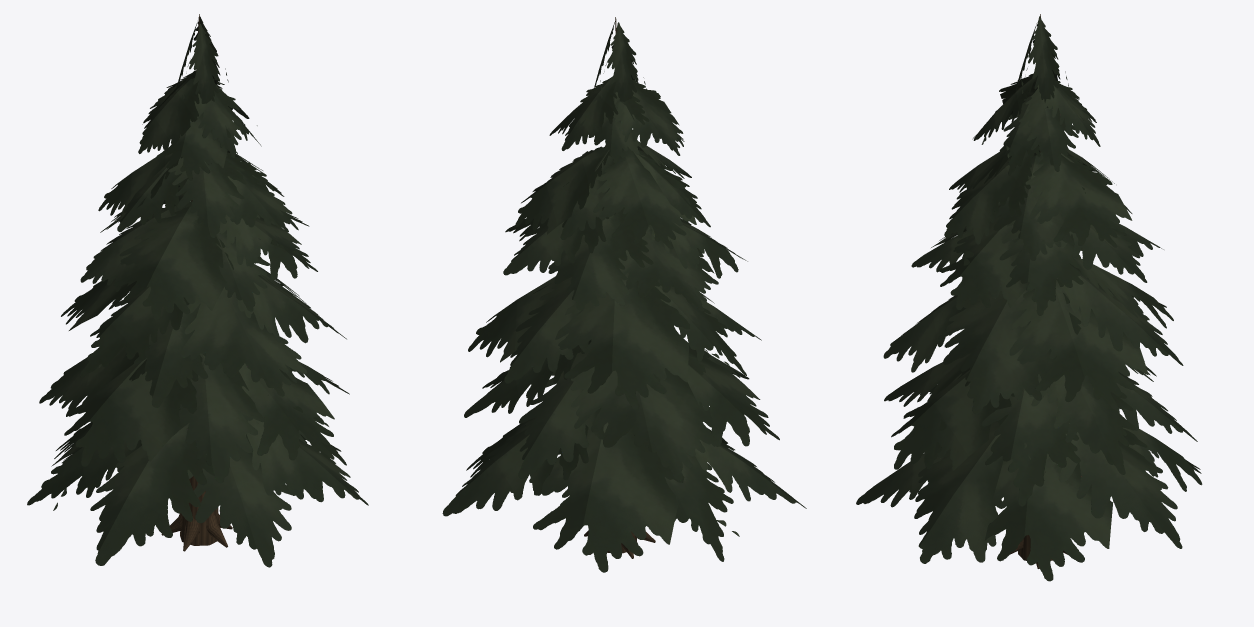
3 renders of one model, left to right at view 1: azimuth 30°, elevation 25°; view 2: azimuth 150°, elevation 25°; view 3: azimuth 270°, elevation 25°, orthographic. The views are drawn at different scales.
Visible parts, largest first — view 1: Tapered harvest trunk; view 2: Tapered harvest trunk; view 3: Tapered harvest trunk.
Boxes of the visible parts, <box> form: Tapered harvest trunk: <box>27,14,368,567</box>; Tapered harvest trunk: <box>442,17,806,572</box>; Tapered harvest trunk: <box>856,14,1202,581</box>.
Size of the model in its own units: 8.41 by 12.31 by 8.21.
Materials: 3 (2 with a texture image).
